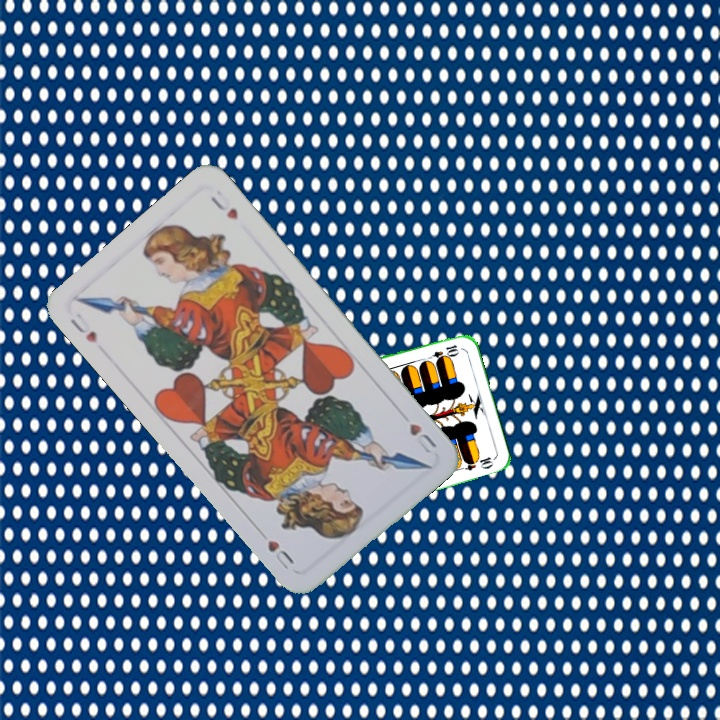E10: (423, 340, 462, 364)
HU: (405, 419, 439, 457), (66, 308, 100, 346)
